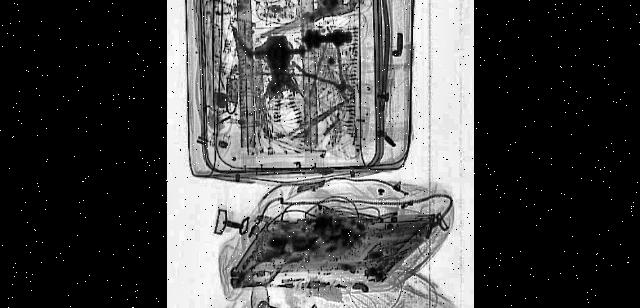Pliers: (291, 2, 359, 128), (259, 0, 356, 38)
